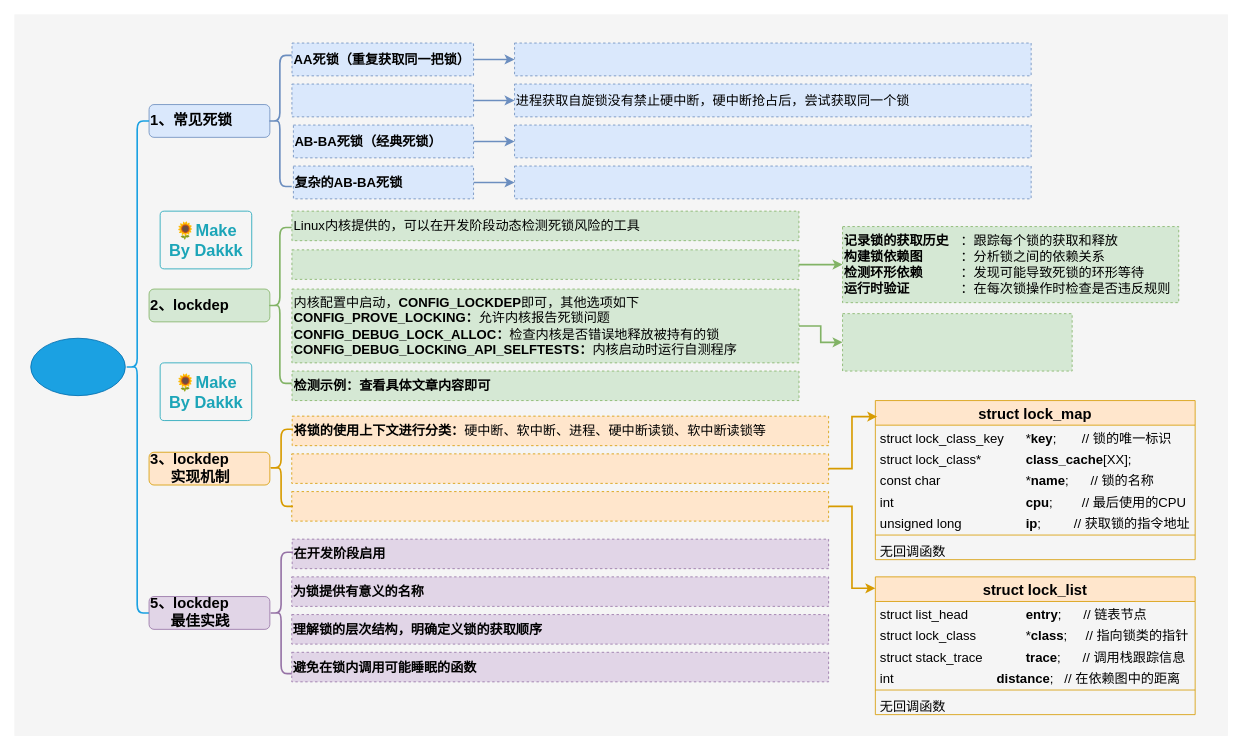
This 1241x749 diagram has some shape labels left out. The shapes that lost their labels are listed below. From the top down, each one's centre as x and y in pixels, then its label:
At (772,59): "1. 重复申请同一个自旋锁；2. 先申请读锁，再申请写锁；3. 递归函数重复获取同一个锁".
At (382,100): "AA死锁（中断相关）".
At (772,141): "A获取锁1后尝试获取锁2，B获取锁2后尝试获取锁1".
At (772,182): "A获取锁1后尝试获取锁2，B获取锁2后尝试获取锁1， A和B可能在不同CPU上执行".
At (545,264): "检测死锁的方式".
At (957,342): "打开CONFIG_PROVE_LOCKING或 CONFIG_DEBUG_LOCK_ALLOC时 会 自动启用CONFIG_LOCKDEP".
At (77,366): "死锁检测".
At (560,468): "每个锁都有一个状态描述符：struct lockdep_map".
At (560,506): "依赖关系记录： 维护一个全局的锁依赖图，lock_list".
